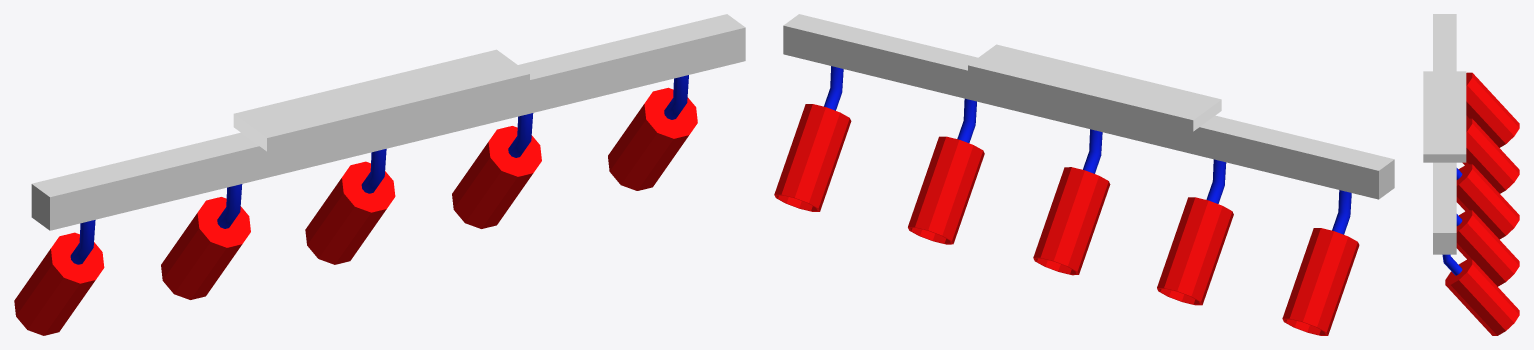
The model's file is Track Lighting 5.fbx.
3 renders of one model, left to right at view 1: azimuth 30°, elevation 25°; view 2: azimuth 150°, elevation 25°; view 3: azimuth 270°, elevation 25°, orthographic. The views are drawn at different scales.
Parts seen in each view (by area): view 1: Lighting Track 5, Lights 5; view 2: Lighting Track 5, Lights 5; view 3: Lights 5, Lighting Track 5.
Boxes of the visible parts, box(x1,y1,x2,y2) form: Lighting Track 5: box(31, 14, 745, 230); Lights 5: box(14, 75, 697, 335); Lighting Track 5: box(783, 14, 1394, 199); Lights 5: box(774, 66, 1359, 335); Lights 5: box(1442, 72, 1519, 335); Lighting Track 5: box(1423, 14, 1466, 254).
Bounding box in the file's own units: 0.5424 × 0.1458 × 0.1008.
